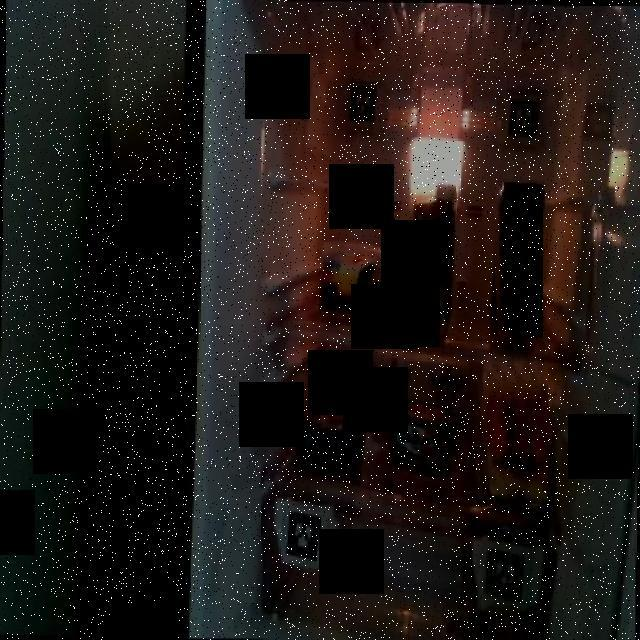energy_drink: (488, 173, 543, 338)
pudding: (319, 236, 381, 312)
rice_ball: (287, 408, 367, 466)
sandwich: (472, 362, 548, 509)
smoothie: (404, 182, 456, 332)
yogurt: (379, 392, 456, 476)
